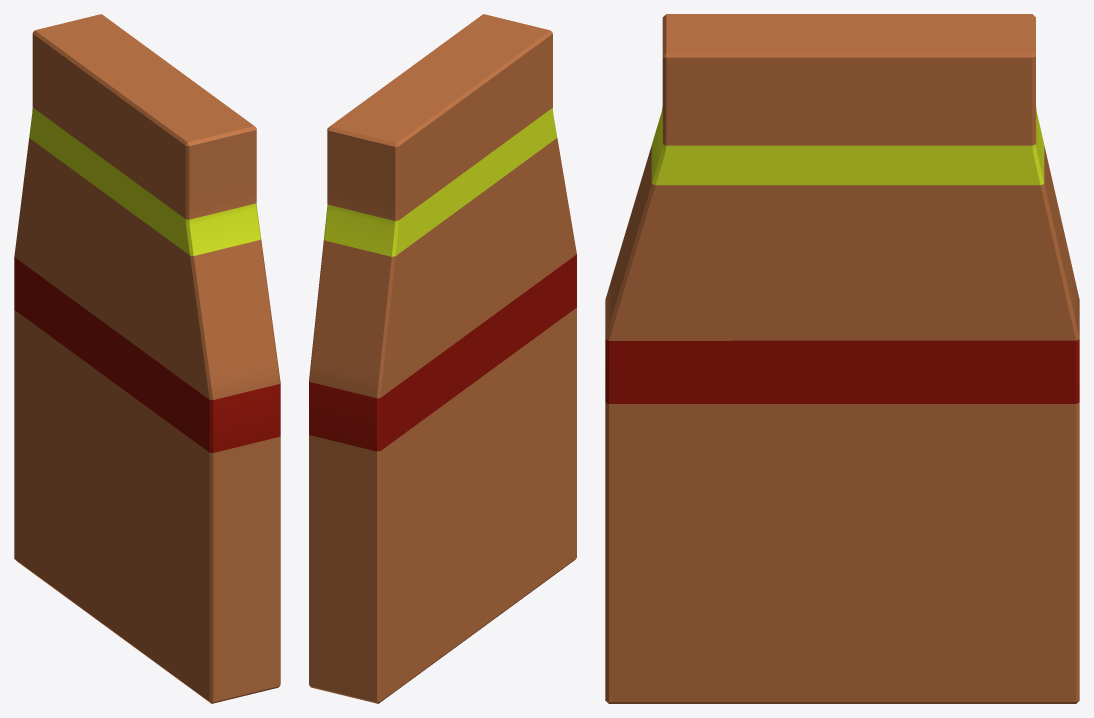
Rendered from PlainExteriorEdgeStraight.fbx.
3 views of the same model, side by side, from view 1: azimuth 30°, elevation 25°; view 2: azimuth 150°, elevation 25°; view 3: azimuth 270°, elevation 25° (orthographic). The views are drawn at different scales.
Parts seen in each view (by area): view 1: (Mapped) Plain Exterior edge straight; view 2: (Mapped) Plain Exterior edge straight; view 3: (Mapped) Plain Exterior edge straight.
Boxes of the visible parts, x1,y1,x2,y2 form: (Mapped) Plain Exterior edge straight: (14,14,280,703); (Mapped) Plain Exterior edge straight: (309,14,576,703); (Mapped) Plain Exterior edge straight: (605,14,1079,703).
Size of the model in its own units: 1.11 by 8.11 by 5.36.
